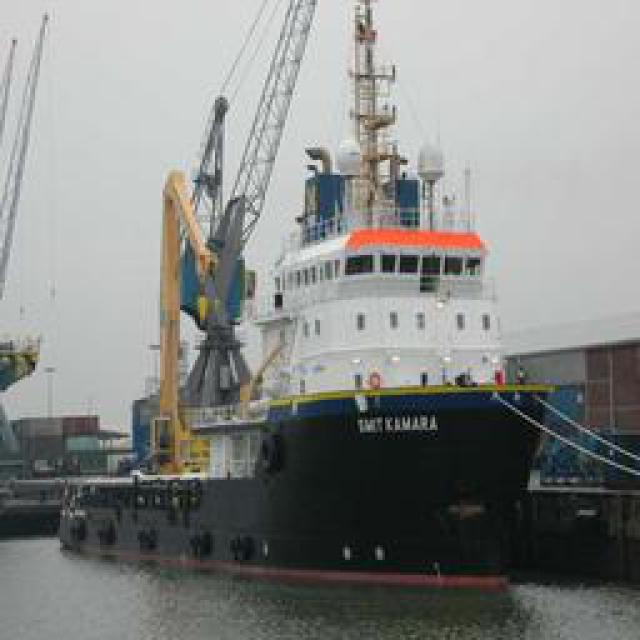Ship: (75, 1, 620, 586)
